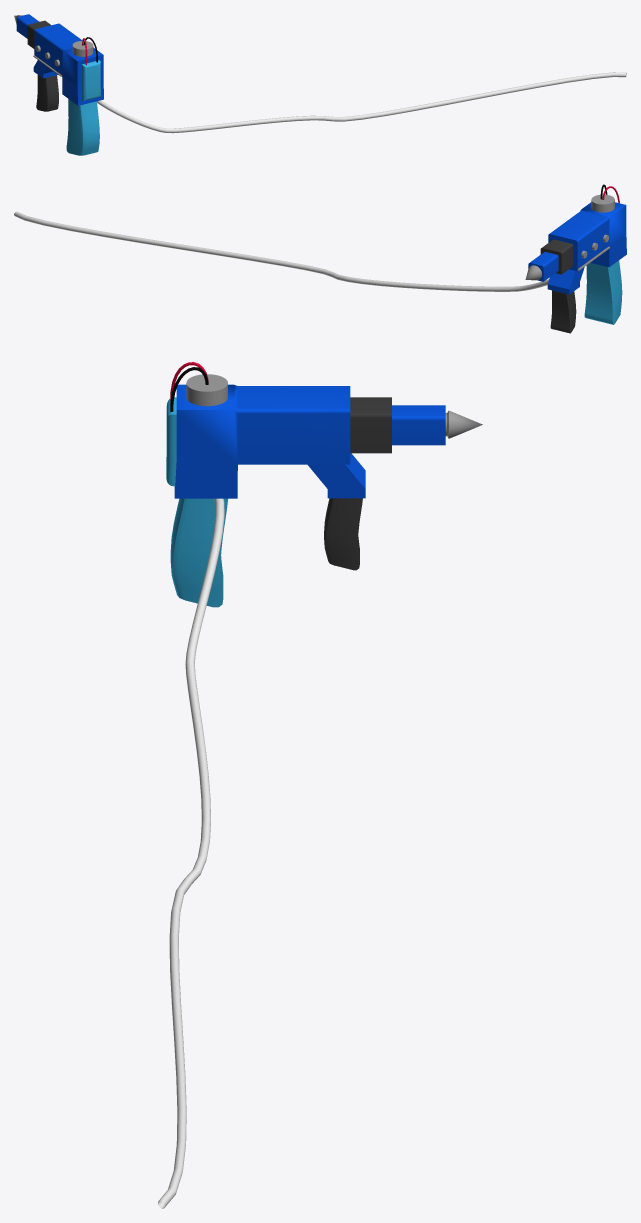
The model's file is Gun2.fbx.
3 views of the same model, one above another, from view 1: azimuth 30°, elevation 25°; view 2: azimuth 150°, elevation 25°; view 3: azimuth 270°, elevation 25° (orthographic). The views are drawn at different scales.
Visible parts, largest first — view 1: Cube, BezierCurve.002, Cylinder; view 2: Cube, BezierCurve.002, Cylinder; view 3: Cube, BezierCurve.002, Cylinder.
Part boxes in pixels (x1,y1,x2,y2): Cube: [14, 14, 103, 155]; BezierCurve.002: [97, 72, 626, 133]; Cylinder: [72, 41, 93, 56]; Cube: [525, 202, 626, 333]; BezierCurve.002: [14, 211, 548, 291]; Cylinder: [591, 194, 614, 212]; Cube: [166, 384, 482, 607]; BezierCurve.002: [158, 498, 224, 1208]; Cylinder: [186, 374, 227, 406].
Bounding box in the file's own units: 2441 × 692 × 627.
